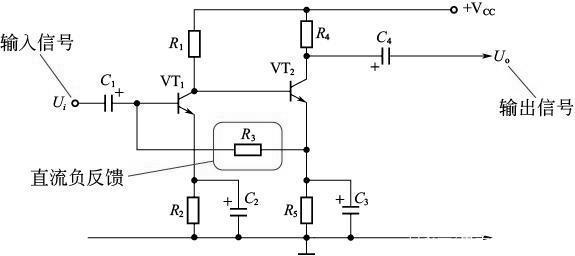cap1: (372, 43, 395, 72), (101, 88, 125, 114), (224, 195, 248, 220), (336, 194, 361, 217)
res1: (186, 26, 204, 61), (230, 142, 266, 158), (298, 194, 315, 227), (186, 193, 202, 227), (299, 18, 315, 51)
triode: (284, 76, 313, 109), (173, 87, 201, 118)
